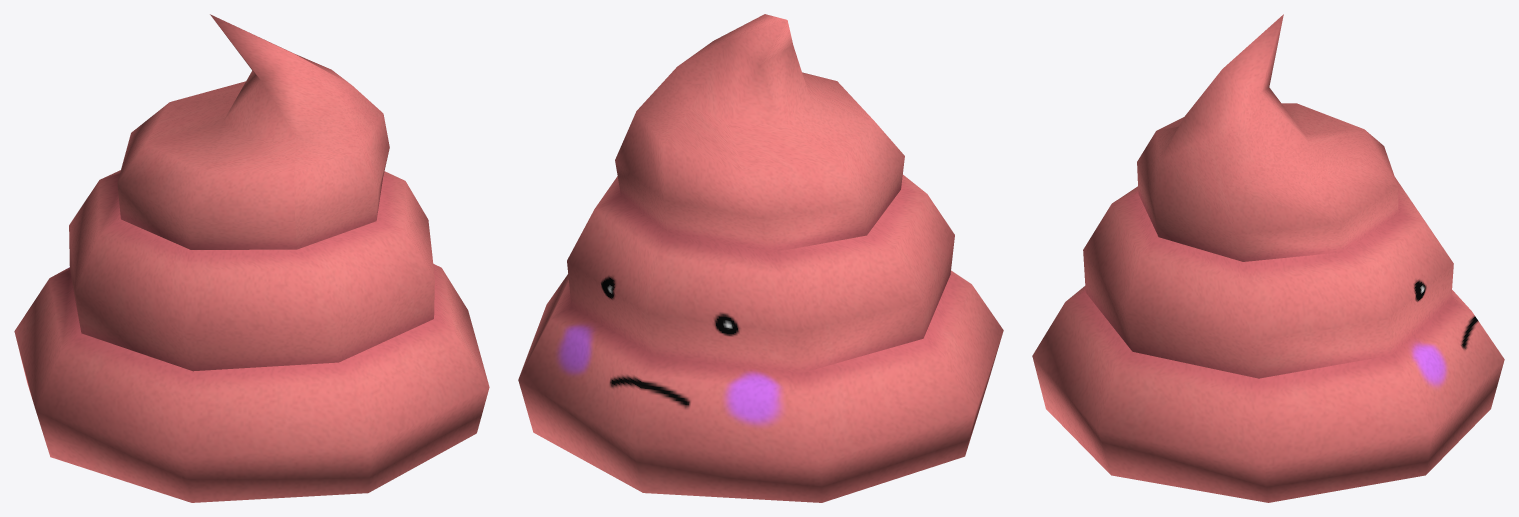
The model's file is PinkMountain.fbx.
The picture shows the model from 3 angles, left to right: view 1: azimuth 30°, elevation 25°; view 2: azimuth 150°, elevation 25°; view 3: azimuth 270°, elevation 25°; orthographic projection. The views are drawn at different scales.
Parts seen in each view (by area): view 1: Empty_Mesh; view 2: Empty_Mesh; view 3: Empty_Mesh.
Part boxes in pixels (box(x1,y1,x2,y2)): Empty_Mesh: box(14, 14, 489, 502); Empty_Mesh: box(518, 14, 1003, 502); Empty_Mesh: box(1032, 14, 1504, 502).
Size of the model in its own units: 0.5496 by 0.4864 by 0.5496.
